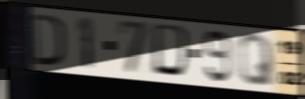1: (76, 15, 93, 73)
7: (117, 18, 150, 77)
9: (203, 29, 232, 83)
D: (152, 21, 194, 81), (29, 11, 66, 68)
Q: (236, 32, 276, 89)
